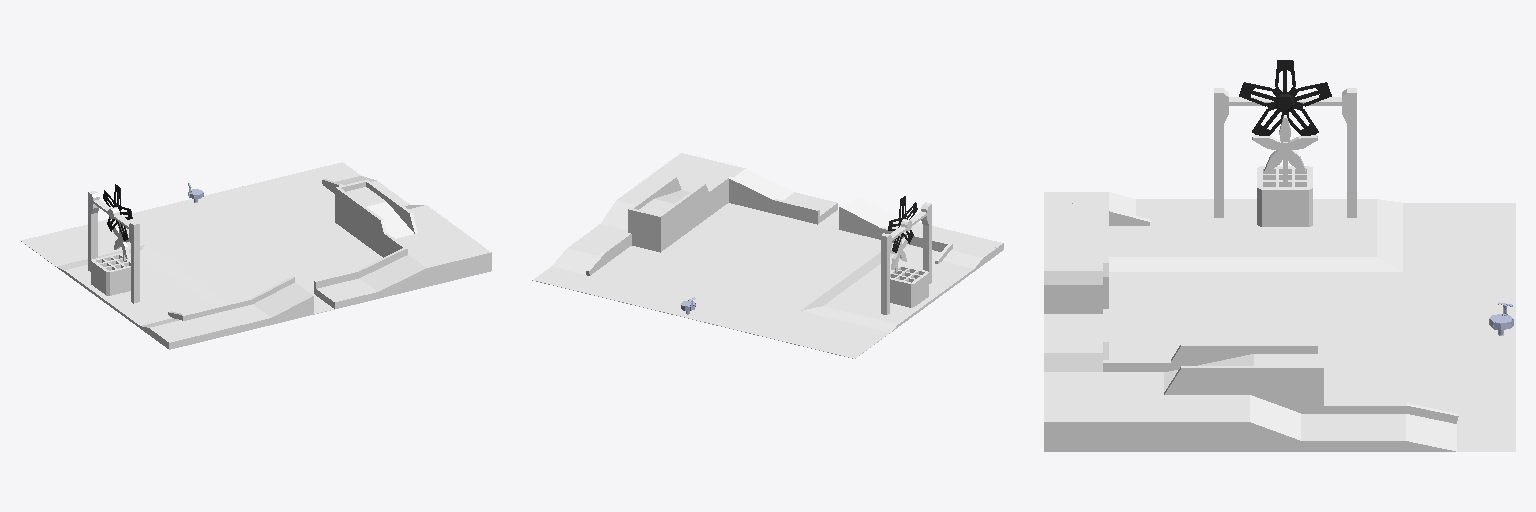
robot.urdf — rm_single_1402:
<?xml version="1.0"?>
<robot
  name="rm_single_1402">
  <link
    name="base">
    <inertial>
      <origin
        xyz="1.69768142160387 -1.49443220987757 -0.93314784684007"
        rpy="0 0 0" />
      <mass
        value="11153.1820111464" />
      <inertia
        ixx="35962.8200484059"
        ixy="1127.84693730381"
        ixz="-719.35370223672"
        iyy="122455.4492655"
        iyz="-564.025490833449"
        izz="156537.110302068" />
    </inertial>
    <visual>
      <origin
        xyz="0 0 0"
        rpy="0 0 0" />
      <geometry>
        <mesh
          filename="package://rm_single_1402/meshes/base.STL" />
      </geometry>
      <material
        name="">
        <color
          rgba="1 1 1 1" />
      </material>
    </visual>
    <collision>
      <origin
        xyz="0 0 0"
        rpy="0 0 0" />
      <geometry>
        <mesh
          filename="package://rm_single_1402/meshes/base.STL" />
      </geometry>
    </collision>
  </link>
  <link
    name="link_signal">
    <inertial>
      <origin
        xyz="-2.22044604925031E-14 2.22044604925031E-16 -0.0455713186518478"
        rpy="0 0 0" />
      <mass
        value="19.2147463351888" />
      <inertia
        ixx="2.08021703253746"
        ixy="-1.82164396414497E-14"
        ixz="7.18670924108434E-15"
        iyy="2.08021703253746"
        iyz="9.85955451184544E-17"
        izz="4.15471520793878" />
    </inertial>
    <visual>
      <origin
        xyz="0 0 0"
        rpy="0 0 0" />
      <geometry>
        <mesh
          filename="package://rm_single_1402/meshes/link_signal.STL" />
      </geometry>
      <material
        name="">
        <color
          rgba="0.203921568627451 0.203921568627451 0.203921568627451 1" />
      </material>
    </visual>
    <collision>
      <origin
        xyz="0 0 0"
        rpy="0 0 0" />
      <geometry>
        <mesh
          filename="package://rm_single_1402/meshes/link_signal.STL" />
      </geometry>
    </collision>
  </link>
  <joint
    name="joint_signal"
    type="continuous">
    <origin
      xyz="-4.0140042731625 0.0842326060566304 1.04093127295638"
      rpy="1.5707963267949 0 1.5707963267949" />
    <parent
      link="base" />
    <child
      link="link_signal" />
    <axis
      xyz="0 0 1" />
    <limit
      lower="-3.14"
      upper="3.14"
      effort="100"
      velocity="1" />
    <mimic
      joint=""
      multiplier="1"
      offset="0" />
  </joint>
  <link
    name="link_switch">
    <inertial>
      <origin
        xyz="1.1518563880486E-15 -7.7715611723761E-16 0.0500000000000003"
        rpy="0 0 0" />
      <mass
        value="38.5177479484889" />
      <inertia
        ixx="1.99654922440112"
        ixy="-1.464009783345E-14"
        ixz="6.72531700924902E-15"
        iyy="1.9965492244011"
        iyz="-3.26097232076993E-17"
        izz="3.9289022022214" />
    </inertial>
    <visual>
      <origin
        xyz="0 0 0"
        rpy="0 0 0" />
      <geometry>
        <mesh
          filename="package://rm_single_1402/meshes/link_switch.STL" />
      </geometry>
      <material
        name="">
        <color
          rgba="1 1 1 1" />
      </material>
    </visual>
    <collision>
      <origin
        xyz="0 0 0"
        rpy="0 0 0" />
      <geometry>
        <mesh
          filename="package://rm_single_1402/meshes/link_switch.STL" />
      </geometry>
    </collision>
  </link>
  <joint
    name="joint_switch"
    type="continuous">
    <origin
      xyz="-3.98514364602291 0.0810884823986275 0.257434780133105"
      rpy="1.5707963267949 0 1.5707963267949" />
    <parent
      link="base" />
    <child
      link="link_switch" />
    <axis
      xyz="0 0 -1" />
    <limit
      lower="-3.14"
      upper="3.14"
      effort="100"
      velocity="1" />
  </joint>
  <link
    name="link_base">
    <inertial>
      <origin
        xyz="-0.0023807583856445 0.0215000000000001 -0.0102225862231369"
        rpy="0 0 0" />
      <mass
        value="0.182527932057222" />
      <inertia
        ixx="0.000123317680196391"
        ixy="1.16059567634364E-36"
        ixz="6.49391926228295E-22"
        iyy="0.000230542481049738"
        iyz="-3.80499950034488E-35"
        izz="0.000123317680196391" />
    </inertial>
    <visual>
      <origin
        xyz="0 0 0"
        rpy="0 0 0" />
      <geometry>
        <mesh
          filename="package://rm_single_1402/meshes/link_base.STL" />
      </geometry>
      <material
        name="">
        <color
          rgba="1 1 1 1" />
      </material>
    </visual>
    <collision>
      <origin
        xyz="0 0 0"
        rpy="0 0 0" />
      <geometry>
        <mesh
          filename="package://rm_single_1402/meshes/link_base.STL" />
      </geometry>
    </collision>
  </link>
  <joint
    name="joint_spinning"
    type="continuous">
    <origin
      xyz="0.483323113018873 3.74234040848561 -1.20688480910035"
      rpy="1.5707963267949 0 0" />
    <parent
      link="base" />
    <child
      link="link_base" />
    <axis
      xyz="0 -1 0" />
    <limit
      lower="-3.14"
      upper="3.14"
      effort="100"
      velocity="1" />
  </joint>
  <link
    name="link_body">
    <inertial>
      <origin
        xyz="-0.00241356244610735 0.237061515063746 -0.0102365151994417"
        rpy="0 0 0" />
      <mass
        value="15.2980499588233" />
      <inertia
        ixx="0.166467270003727"
        ixy="2.09114415628004E-19"
        ixz="1.47744797159628E-17"
        iyy="0.246115637222411"
        iyz="1.8493369569499E-17"
        izz="0.166467270003727" />
    </inertial>
    <visual>
      <origin
        xyz="0 0 0"
        rpy="0 0 0" />
      <geometry>
        <mesh
          filename="package://rm_single_1402/meshes/link_body.STL" />
      </geometry>
      <material
        name="">
        <color
          rgba="0.792156862745098 0.819607843137255 0.933333333333333 1" />
      </material>
    </visual>
    <collision>
      <origin
        xyz="0 0 0"
        rpy="0 0 0" />
      <geometry>
        <mesh
          filename="package://rm_single_1402/meshes/link_body.STL" />
      </geometry>
    </collision>
  </link>
  <joint
    name="joint_body"
    type="continuous">
    <origin
      xyz="0.48332 3.7423 -1.2069"
      rpy="1.5708 0 0" />
    <parent
      link="base" />
    <child
      link="link_body" />
    <axis
      xyz="0 -1 0" />
    <limit
      lower="-3.14"
      upper="3.14"
      effort="100"
      velocity="1" />
  </joint>
  <link
    name="link_shield">
    <inertial>
      <origin
        xyz="-0.00241356132983872 0.248522520680821 -0.0102365149630823"
        rpy="0 0 0" />
      <mass
        value="0.423842683922865" />
      <inertia
        ixx="0.000822120476236911"
        ixy="3.69872546547594E-13"
        ixz="1.76765850221083E-12"
        iyy="0.000583837522496483"
        iyz="2.02544470737216E-12"
        izz="0.000822120472245529" />
    </inertial>
    <visual>
      <origin
        xyz="0 0 0"
        rpy="0 0 0" />
      <geometry>
        <mesh
          filename="package://rm_single_1402/meshes/link_shield.STL" />
      </geometry>
      <material
        name="">
        <color
          rgba="0.792156862745098 0.819607843137255 0.933333333333333 1" />
      </material>
    </visual>
    <collision>
      <origin
        xyz="0 0 0"
        rpy="0 0 0" />
      <geometry>
        <mesh
          filename="package://rm_single_1402/meshes/link_shield.STL" />
      </geometry>
    </collision>
  </link>
  <joint
    name="joint_shield"
    type="continuous">
    <origin
      xyz="0.48332 3.7423 -1.2069"
      rpy="1.5708 0 0" />
    <parent
      link="base" />
    <child
      link="link_shield" />
    <axis
      xyz="0 -1 0" />
    <limit
      lower="-3.14"
      upper="3.14"
      effort="100"
      velocity="1" />
  </joint>
  <link
    name="link_twinkle">
    <inertial>
      <origin
        xyz="-0.159314064229135 0.45704934609755 -0.0767359498773184"
        rpy="0 0 0" />
      <mass
        value="0.246053272409585" />
      <inertia
        ixx="0.000545998274476034"
        ixy="6.12051331163738E-06"
        ixz="0.000129001127329237"
        iyy="0.000458101383803603"
        iyz="2.62193367790035E-06"
        izz="0.000287827485665181" />
    </inertial>
    <visual>
      <origin
        xyz="0 0 0"
        rpy="0 0 0" />
      <geometry>
        <mesh
          filename="package://rm_single_1402/meshes/link_twinkle.STL" />
      </geometry>
      <material
        name="">
        <color
          rgba="0.792156862745098 0.819607843137255 0.933333333333333 1" />
      </material>
    </visual>
    <collision>
      <origin
        xyz="0 0 0"
        rpy="0 0 0" />
      <geometry>
        <mesh
          filename="package://rm_single_1402/meshes/link_twinkle.STL" />
      </geometry>
    </collision>
  </link>
  <joint
    name="joint_twinkle"
    type="continuous">
    <origin
      xyz="0.483323113018873 3.74234040848561 -1.20688480910035"
      rpy="1.5707963267949 0 0" />
    <parent
      link="base" />
    <child
      link="link_twinkle" />
    <axis
      xyz="0 -1 0" />
    <limit
      lower="-3.14"
      upper="3.14"
      effort="100"
      velocity="1" />
  </joint>

  <gazebo reference="base">
    <material>Gazebo/Grey</material>
    <turnGravityOff>false</turnGravityOff>
  </gazebo>
  <gazebo reference="link_signal">
    <material>Gazebo/Grey</material>
    <turnGravityOff>false</turnGravityOff>
  </gazebo>
  <gazebo reference="link_switch">
    <material>Gazebo/SkyBlue</material>
    <turnGravityOff>false</turnGravityOff>
  </gazebo>
  <gazebo reference="link_base">
    <material>Gazebo/Black</material>
    <turnGravityOff>false</turnGravityOff>
  </gazebo>
  <gazebo reference="link_body">
    <material>Gazebo/White</material>
    <turnGravityOff>false</turnGravityOff>
  </gazebo>
  <gazebo reference="shield">
    <material>Gazebo/Black</material>
    <turnGravityOff>false</turnGravityOff>
  </gazebo>
  <gazebo reference="link_twinkle">
    <material>Gazebo/BlueLaser</material>
    <turnGravityOff>true</turnGravityOff>
  </gazebo>
</robot>

--- Render facts (derived) ---
3 views of the same robot in one strip: view 1: azimuth 30°, elevation 25°; view 2: azimuth 150°, elevation 25°; view 3: azimuth 270°, elevation 25° (orthographic).
Model rm_single_1402 with 7 links and 6 joints (6 continuous), rooted at base, posed all joints at 0.
Links seen in each view (by area): view 1: base; view 2: base; view 3: base, link_signal, link_switch.
Link boxes in pixels (x1=…): base: x1=21, y1=162, x2=491, y2=349; base: x1=532, y1=153, x2=1003, y2=358; base: x1=1044, y1=88, x2=1515, y2=451; link_signal: x1=1239, y1=60, x2=1331, y2=135; link_switch: x1=1252, y1=115, x2=1317, y2=173.
Size in the robot's own frame: 10 by 8 by 3.04 metres.
7 mesh visuals loaded from 7 distinct referenced files (7 binary STL).